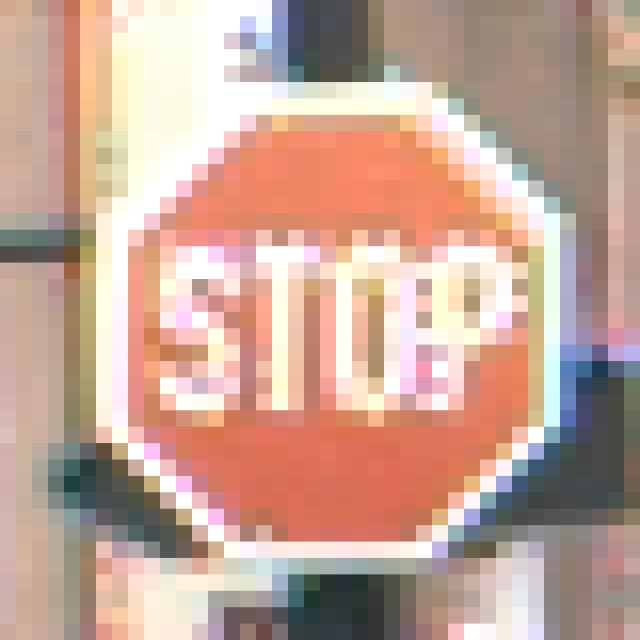STOP: (81, 83, 545, 559)
